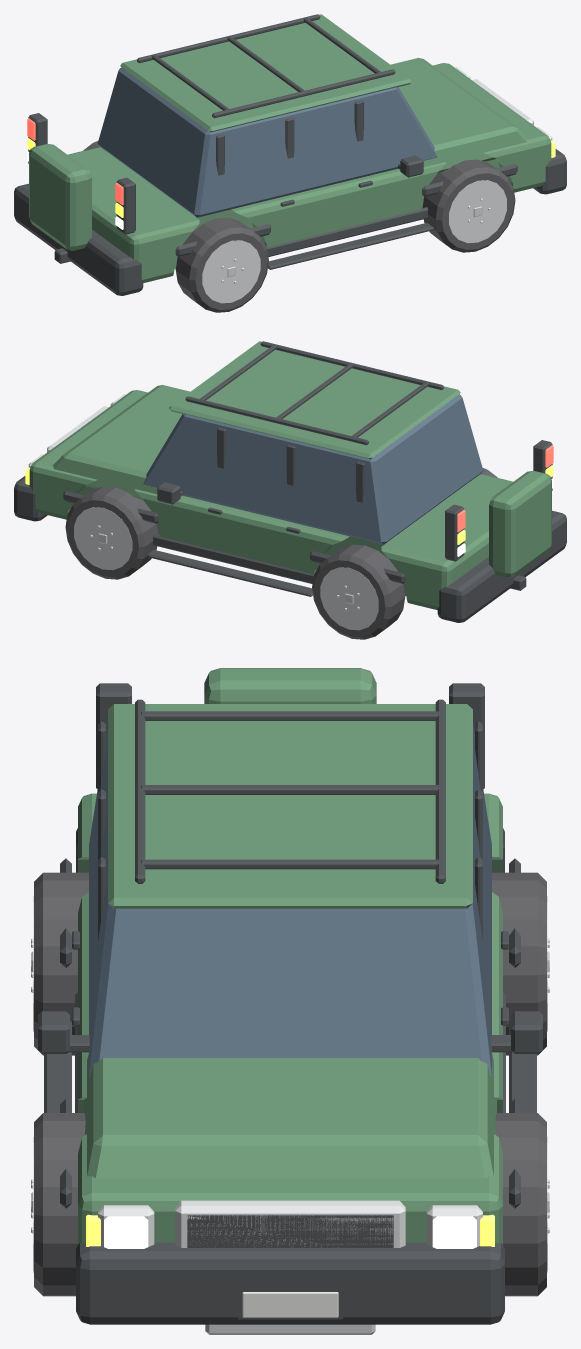
File: SUV.glb
3 renders of one model, top to bottom at view 1: azimuth 30°, elevation 25°; view 2: azimuth 150°, elevation 25°; view 3: azimuth 270°, elevation 25°, orthographic. The views are drawn at different scales.
Visible parts, largest first — view 1: SUV_Body, SUV_Wheel_RR, SUV_Wheel_FR; view 2: SUV_Body, SUV_Wheel_RL, SUV_Wheel_FL; view 3: SUV_Body, SUV_Wheel_FL, SUV_Wheel_FR, SUV_Wheel_RL, SUV_Wheel_RR.
Part boxes in pixels (x1,y1,x2,y2): SUV_Body: [14, 14, 566, 295]; SUV_Wheel_RR: [175, 217, 268, 312]; SUV_Wheel_FR: [422, 159, 515, 252]; SUV_Body: [14, 341, 566, 622]; SUV_Wheel_RL: [312, 544, 405, 639]; SUV_Wheel_FL: [65, 486, 158, 579]; SUV_Body: [38, 668, 542, 1334]; SUV_Wheel_FL: [495, 1113, 549, 1296]; SUV_Wheel_FR: [31, 1113, 85, 1296]; SUV_Wheel_RL: [492, 872, 549, 1055]; SUV_Wheel_RR: [31, 872, 88, 1055].
Size of the model in its own units: 5.41 by 1.97 by 2.59.
